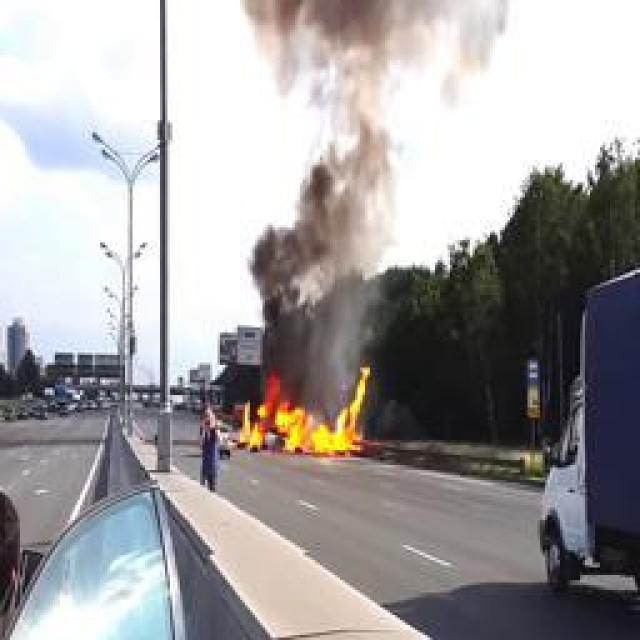Fire: (245, 366, 370, 456)
